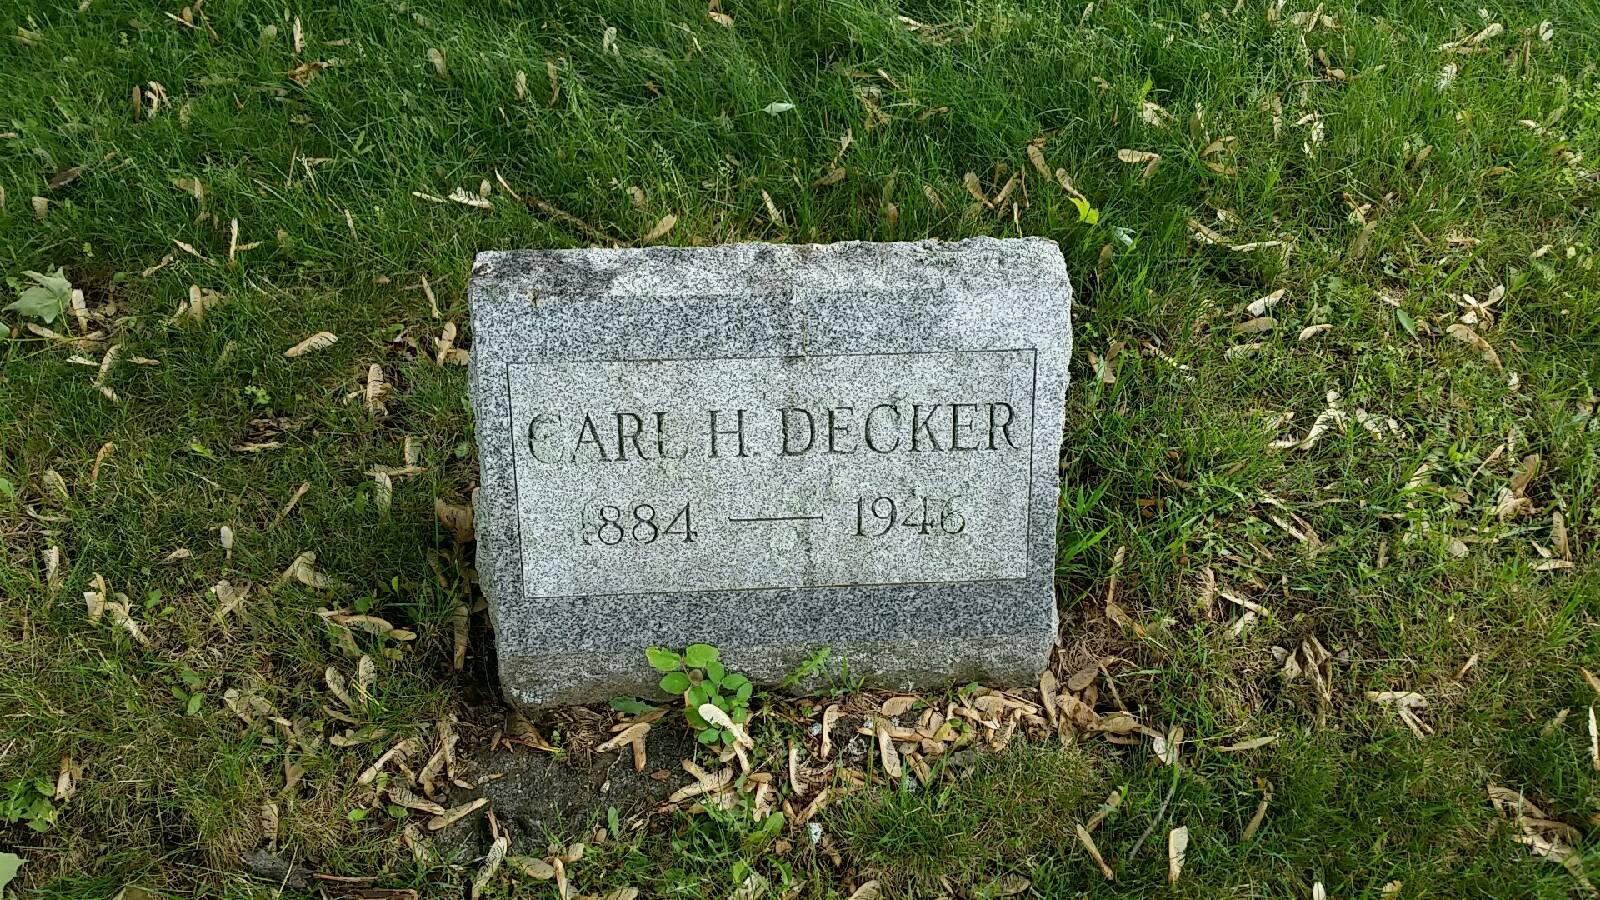slant: (462, 241, 1074, 673)
